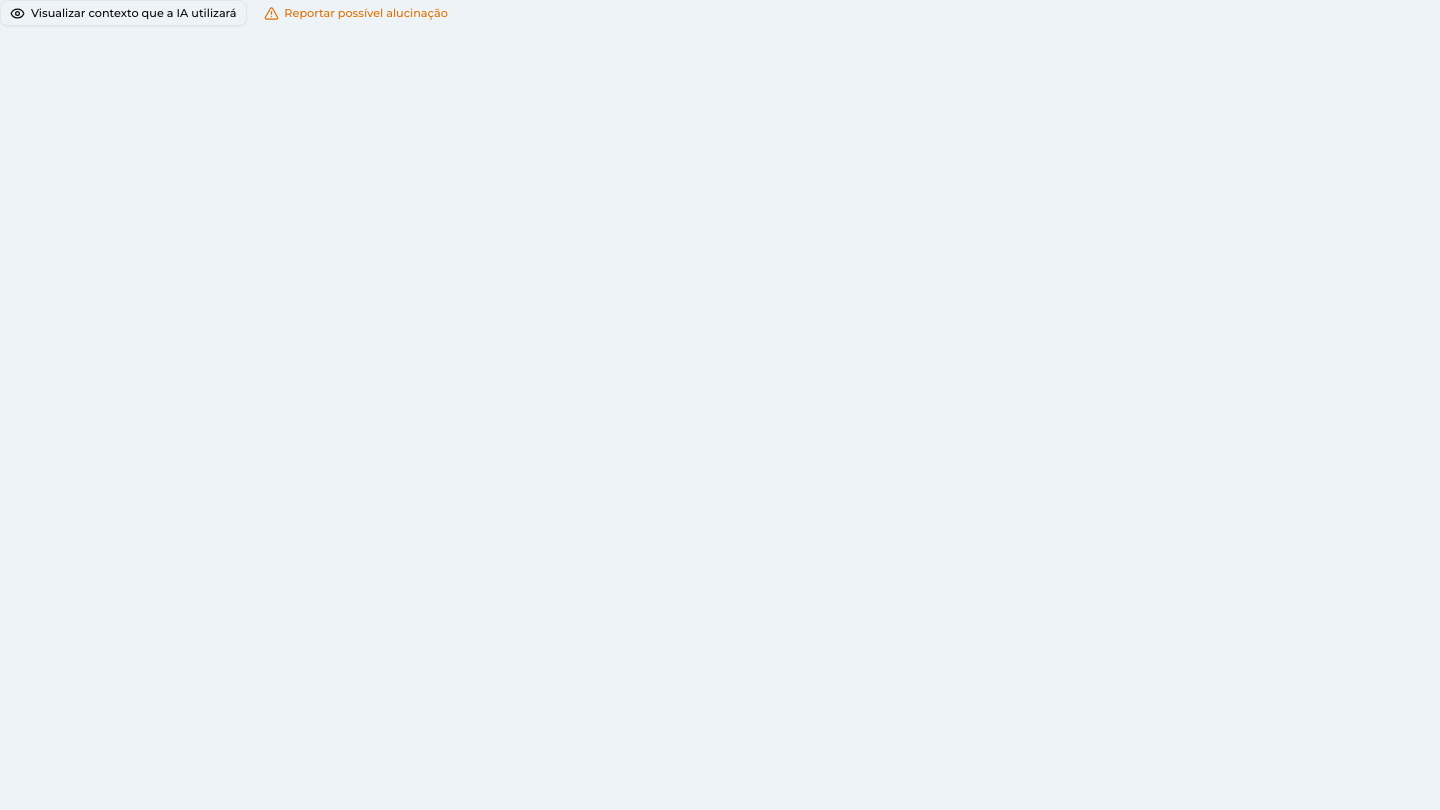
Scenario: MemoryContextPreview › mostra erro sem quebrar a tela quando a compilação falha
Click the button "Visualizar contexto que a IA utilizará" at (123, 13), box [0,0,247,26]
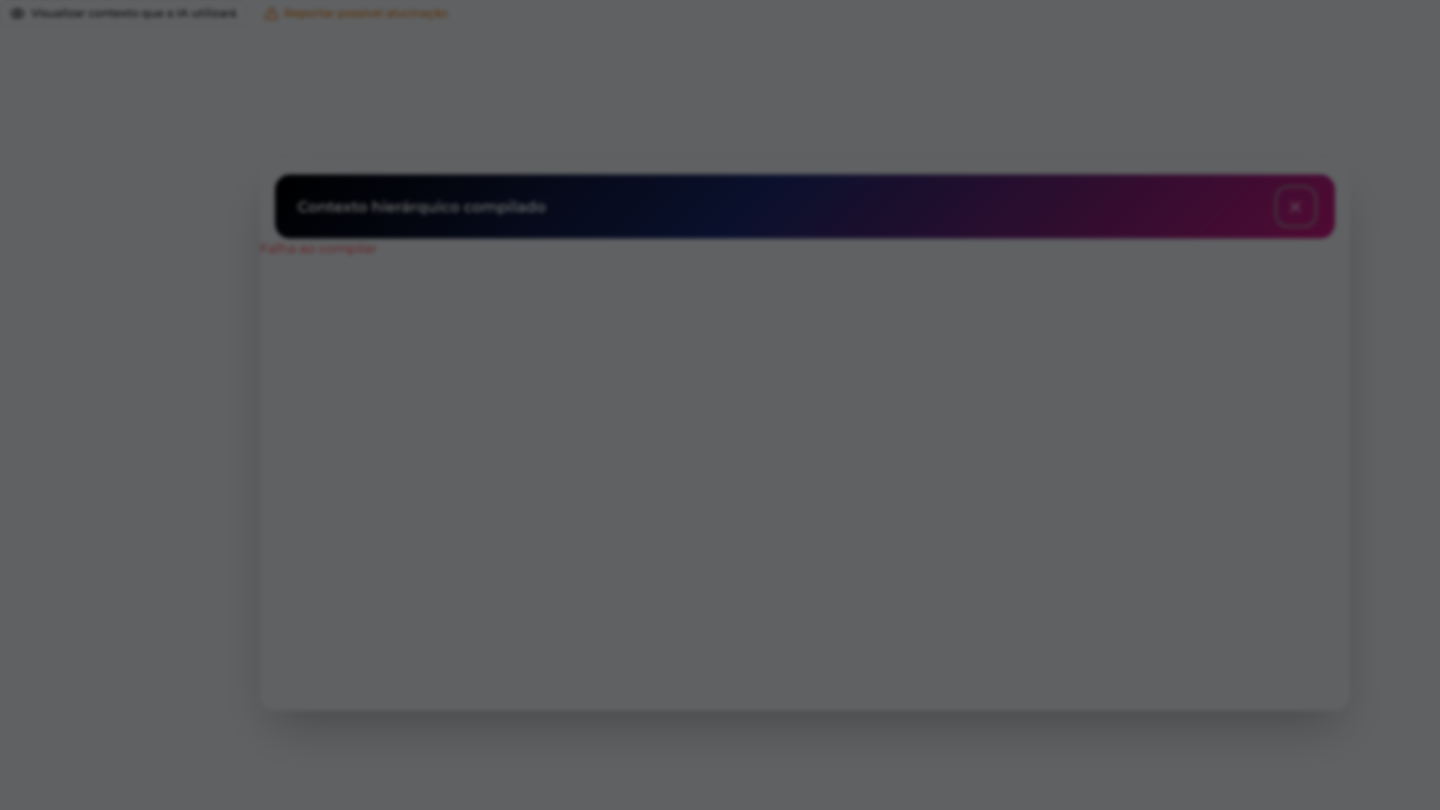
Check: the text "Falha ao compilar" is shown, box [260,239,377,255]
